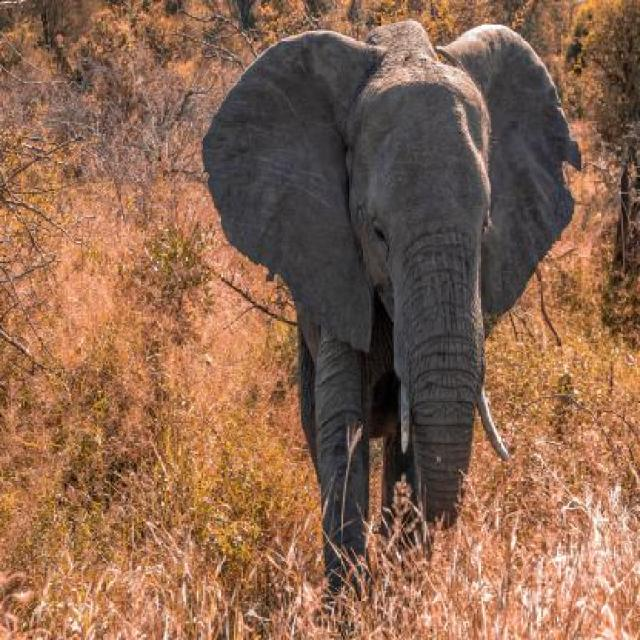Elephant: (200, 17, 588, 597)
